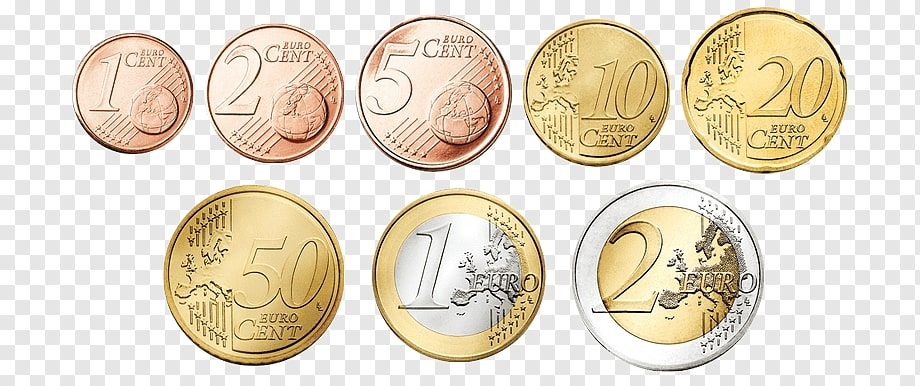1 cent: (73, 34, 193, 155)
1 euro: (372, 191, 545, 364)
10 cent: (523, 14, 673, 173)
2 cent: (206, 25, 344, 164)
2 euro: (568, 180, 763, 366)
20 cent: (681, 8, 847, 174)
5 cent: (357, 17, 512, 172)
50 cent: (163, 187, 344, 368)
